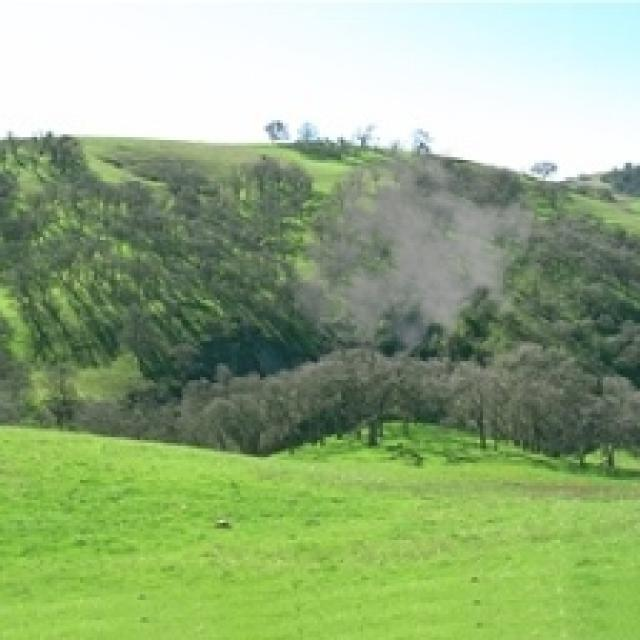Smoke: (288, 137, 538, 377)
